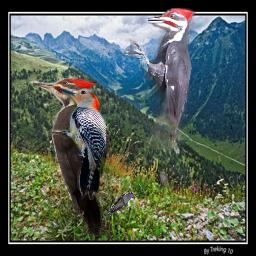Cuckoo: (103, 192, 137, 221)
Woodpecker: (29, 78, 115, 241), (123, 8, 196, 150), (49, 88, 106, 200)
